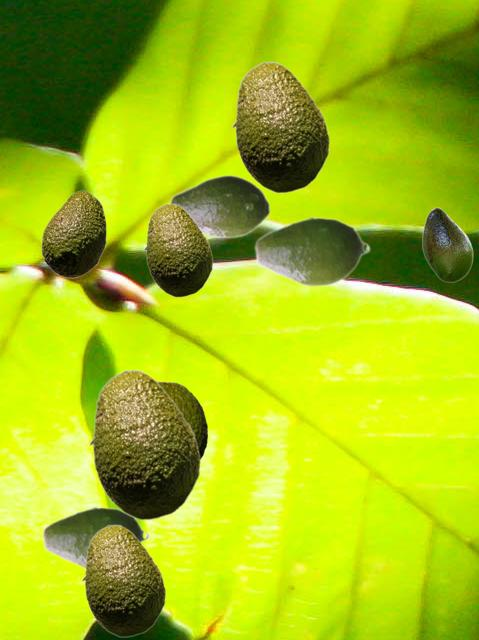avocado: (88, 369, 200, 519), (231, 61, 329, 192), (81, 524, 165, 636), (253, 215, 370, 287), (41, 505, 149, 570), (169, 174, 270, 238), (143, 203, 212, 296), (41, 190, 105, 277), (422, 207, 472, 281), (159, 381, 206, 459)
